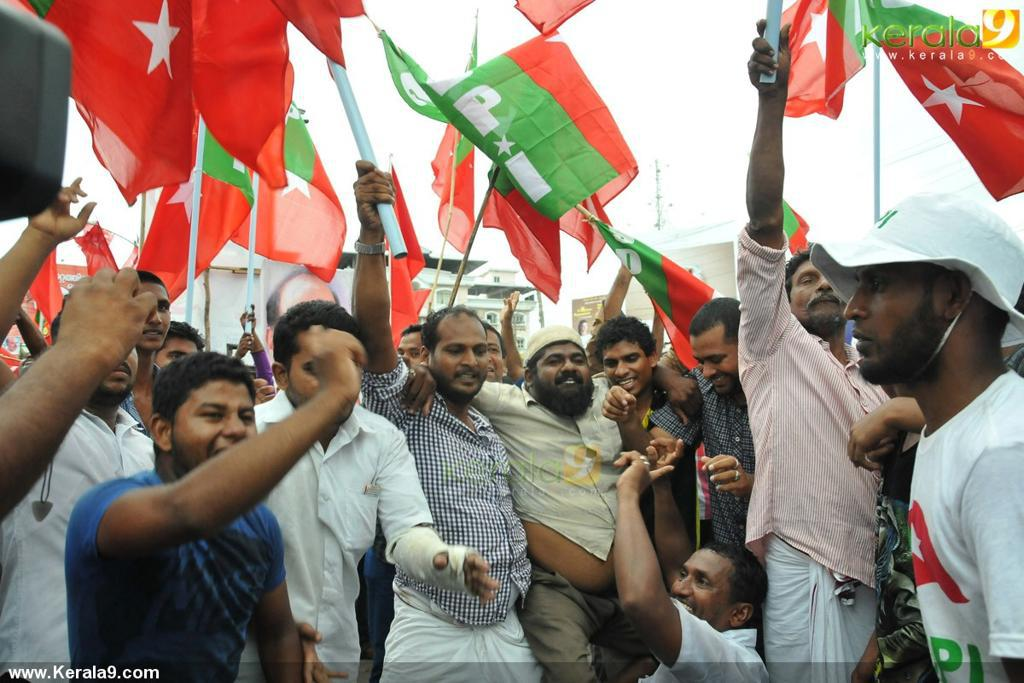face: (844, 260, 943, 374), (173, 390, 257, 488), (288, 344, 359, 422), (66, 322, 139, 392), (668, 559, 731, 631), (790, 263, 848, 326), (430, 329, 487, 393), (536, 343, 590, 405), (123, 292, 171, 349), (154, 344, 200, 396), (603, 343, 648, 395), (693, 347, 740, 394), (466, 336, 502, 383), (397, 342, 432, 382), (25, 362, 36, 372), (11, 339, 19, 350), (580, 323, 588, 333), (11, 326, 19, 335)
